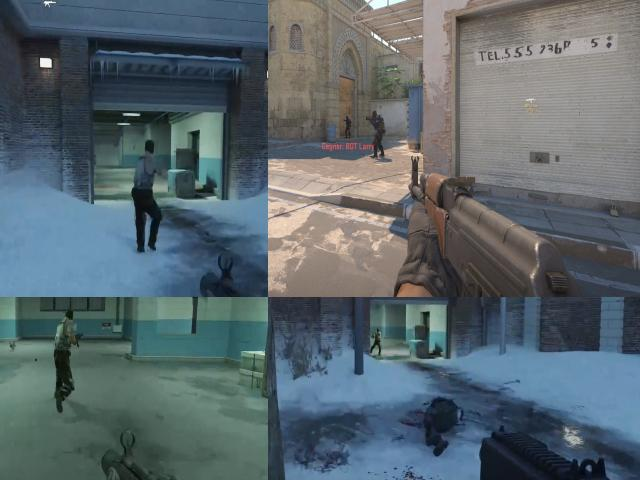CT: (370, 110, 384, 158), (345, 115, 351, 138)
CT-Head: (372, 110, 378, 117), (346, 115, 349, 120)
Dead: (414, 385, 468, 462)
T: (130, 131, 166, 206), (371, 327, 382, 351)
T-Head: (51, 314, 80, 362), (141, 138, 158, 159), (374, 328, 380, 335)
